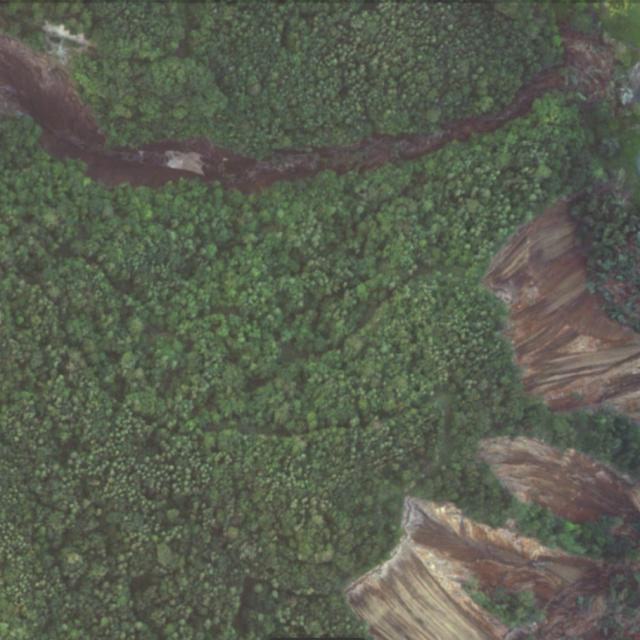landslide: (0, 33, 568, 192), (347, 499, 607, 640), (484, 200, 640, 421), (480, 437, 640, 523)
